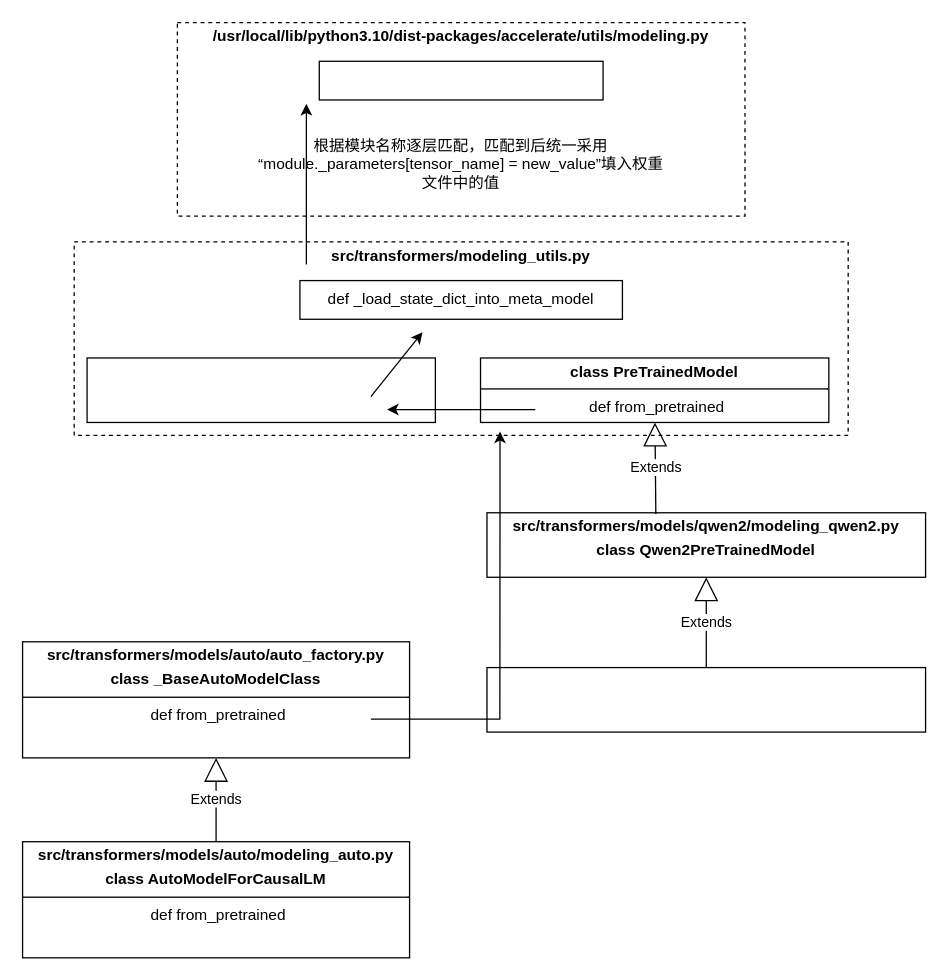
This 948x980 diagram has some shape labels left out. The centre of each missing label's shape, as x and y in pixels:
"class PreTrainedModel def _load_pretrained_model" goes at point (260, 389).
"def set_module_tensor_to_device" goes at point (460, 80).
"src/transformers/models/qwen2/modeling_qwen2.py class Qwen2ForCausalLM" goes at point (706, 699).
